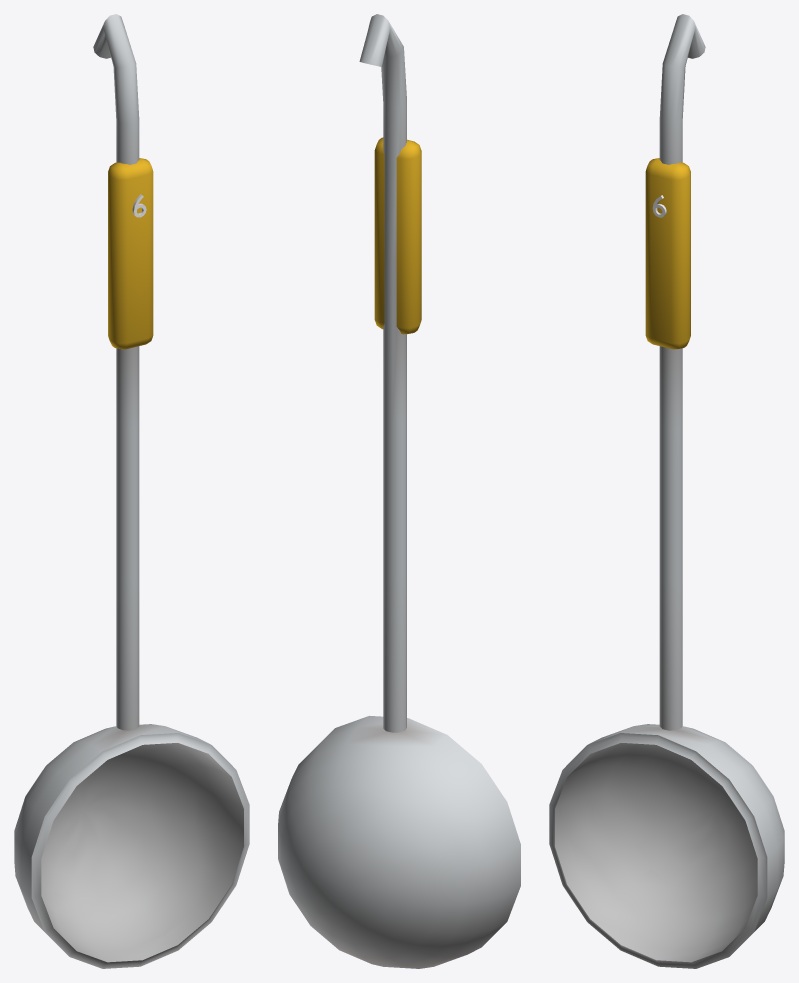
The model's file is fp-ladle-6.gltf.
The picture shows the model from 3 angles, left to right: view 1: azimuth 30°, elevation 25°; view 2: azimuth 150°, elevation 25°; view 3: azimuth 330°, elevation 25°; orthographic projection. The views are drawn at different scales.
Visible parts, largest first — view 1: model; view 2: model; view 3: model.
Part boxes in pixels (<box>): model: <box>14,14,249,968</box>; model: <box>278,14,520,968</box>; model: <box>549,14,784,968</box>.
Size of the model in its own units: 0.0865 by 0.3537 by 0.0454.
